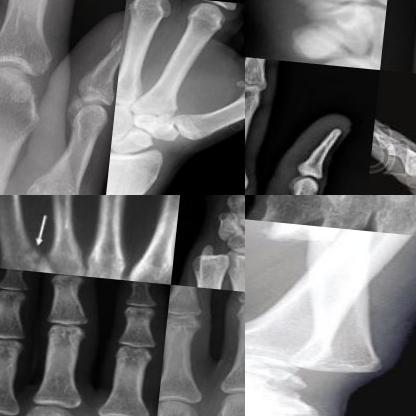fracture: (250, 215, 415, 267), (13, 239, 51, 270)
